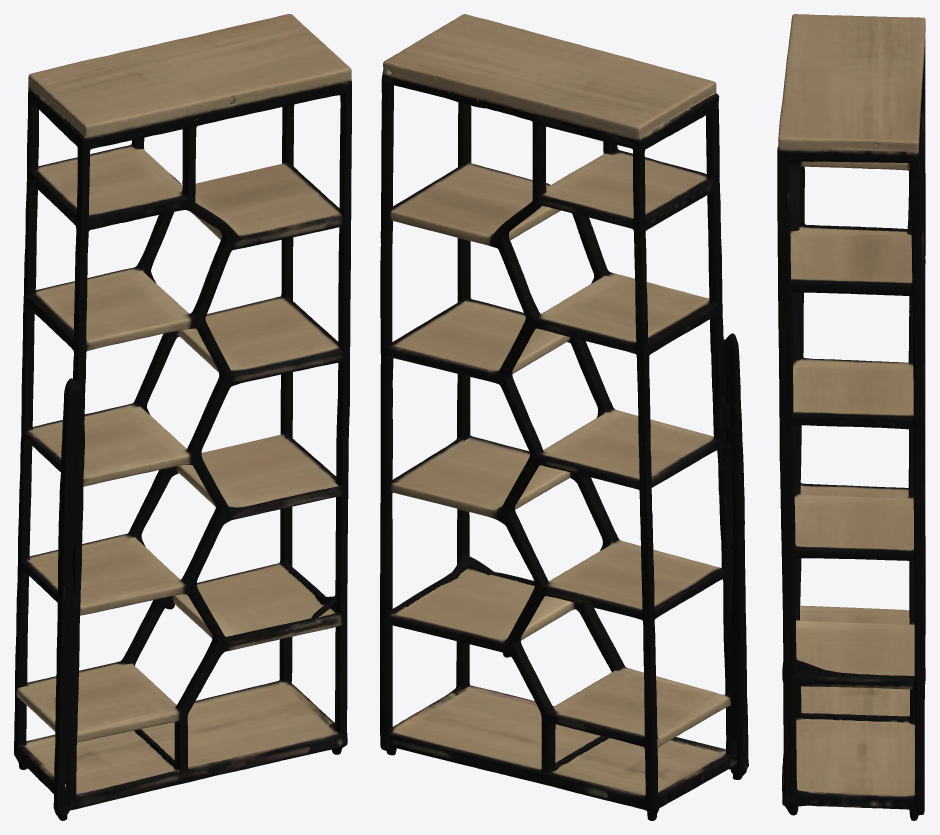
The model's file is zig-zag-javon.glb.
3 views of the same model, side by side, from view 1: azimuth 30°, elevation 25°; view 2: azimuth 150°, elevation 25°; view 3: azimuth 270°, elevation 25° (orthographic).
Parts seen in each view (by area): view 1: world; view 2: world; view 3: world.
Boxes of the visible parts, x1,y1,x2,y2 form: world: (14,14,351,820); world: (380,14,748,820); world: (777,14,925,820).
Bounding box in the file's own units: 0.4568 × 1 × 0.1983.
1 material, 1 textured.
